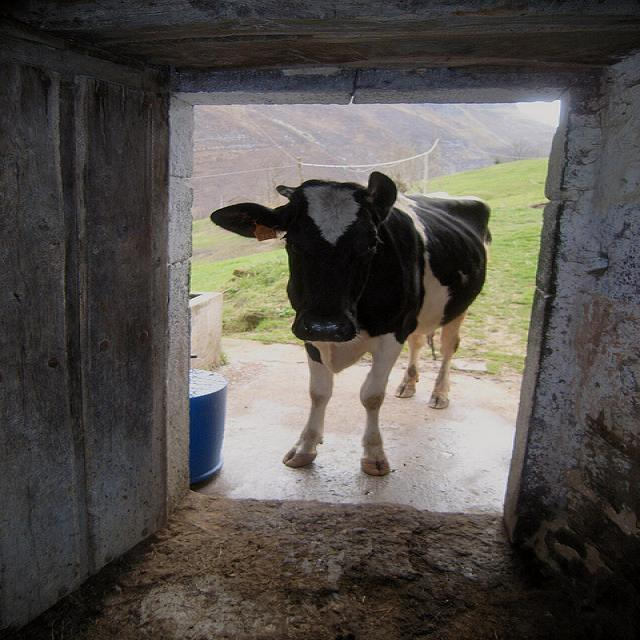cow: (209, 170, 491, 475)
